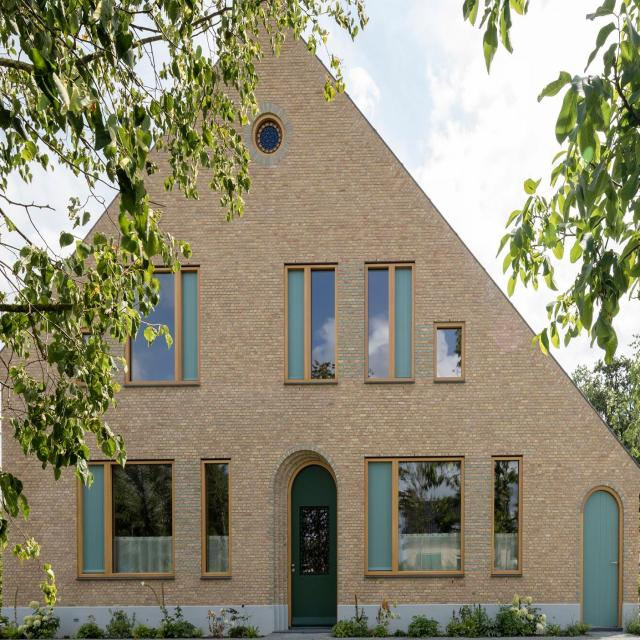door: (288, 463, 337, 631), (579, 488, 622, 631)
window: (365, 457, 467, 576), (78, 460, 174, 579), (128, 266, 199, 384), (363, 261, 416, 382), (285, 265, 337, 383), (491, 452, 523, 577), (202, 462, 230, 576), (432, 322, 464, 379), (253, 117, 283, 155)
